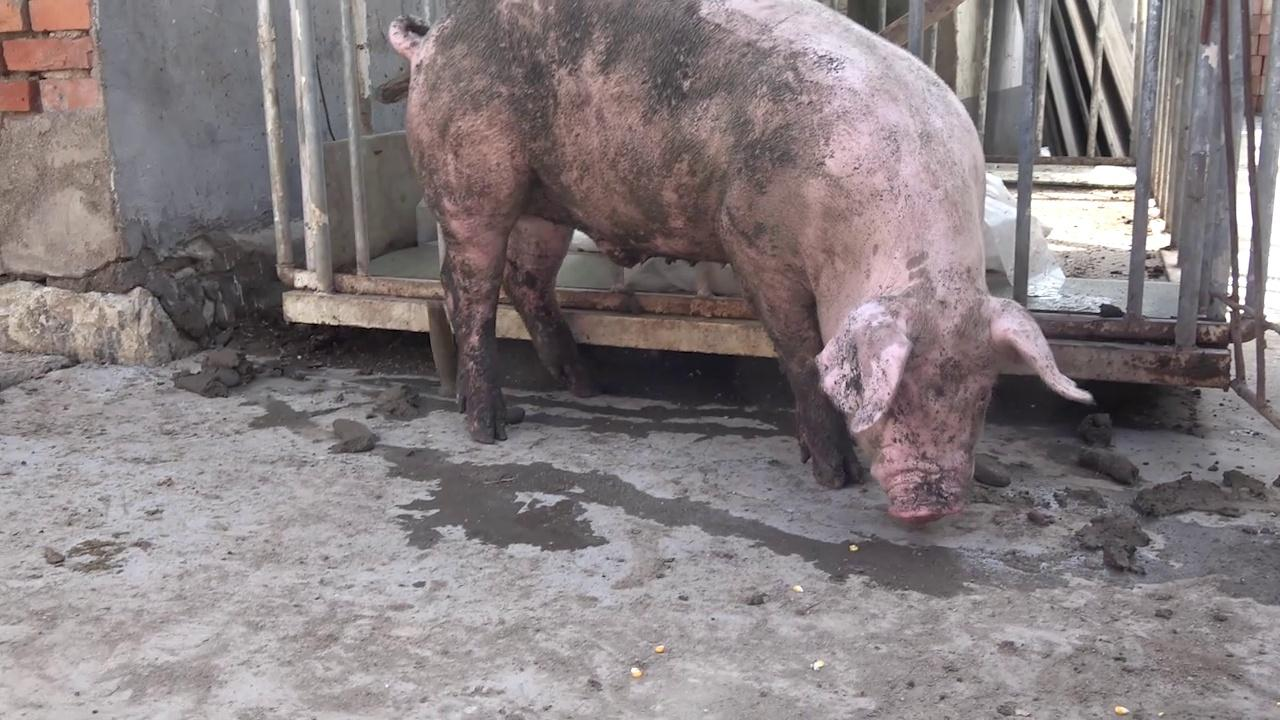Face: (797, 279, 1100, 538)
